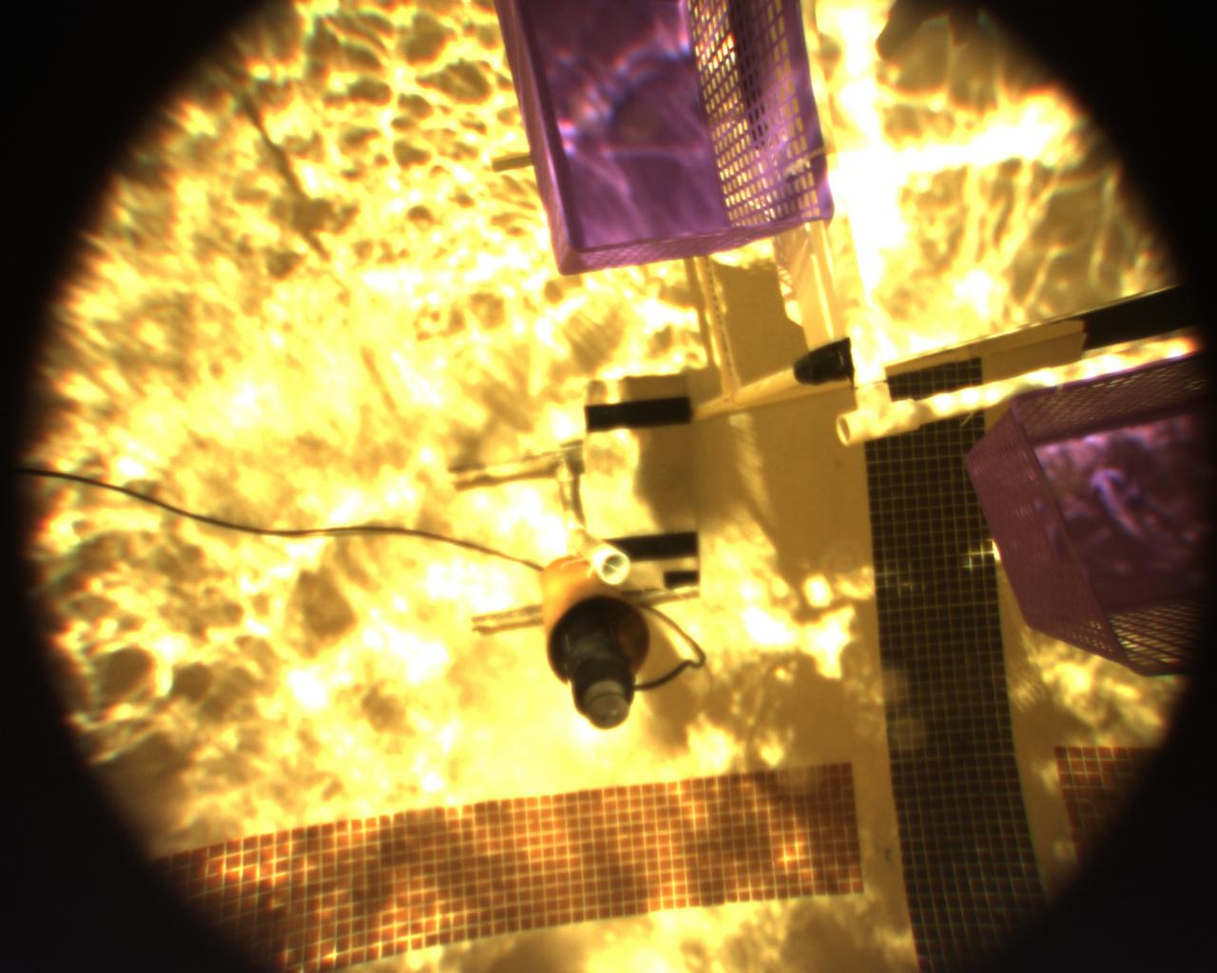coral-box-top: (792, 0, 1217, 414)
